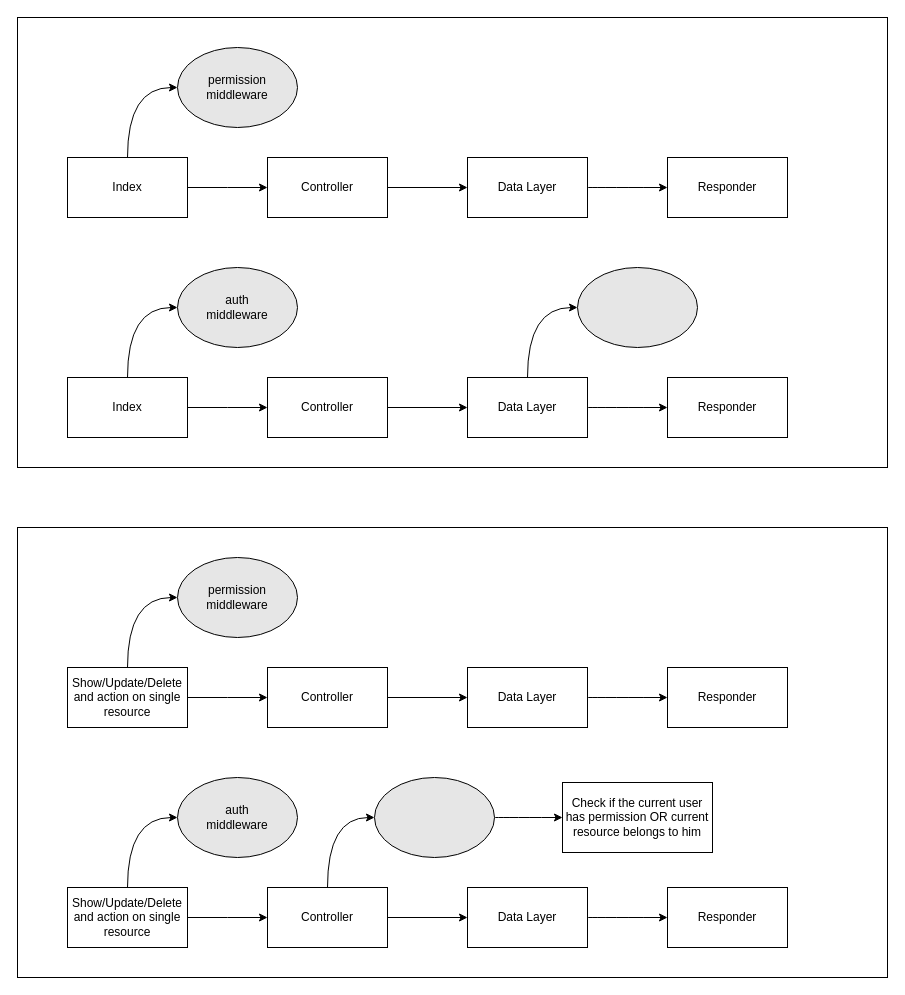
The diagram is 905 pixels wide and 995 high, and some of its shapes have lost their labels. Here are the shapes that lost their labels. From the top down, the centre of each, then its label:
point (637, 307): Permission based Data
point (434, 817): authorize() under Request.php
